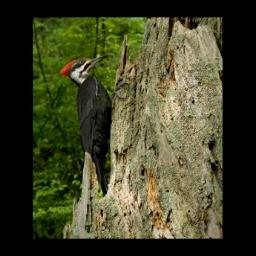Woodpecker: (59, 54, 129, 198)
